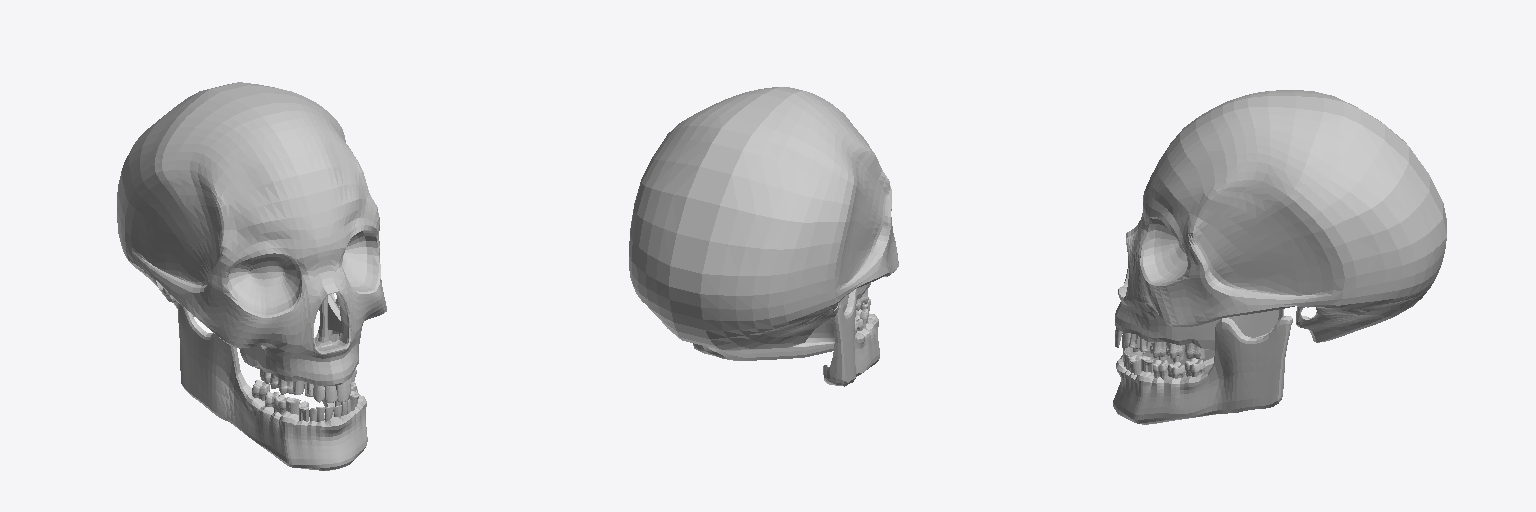
Rendered from jaw3.obj.
The picture shows the model from 3 angles: view 1: azimuth 30°, elevation 25°; view 2: azimuth 150°, elevation 25°; view 3: azimuth 270°, elevation 25°; orthographic projection.
Parts seen in each view (by area): view 1: Skull; view 2: Skull; view 3: Skull.
Boxes of the visible parts, <box> form: Skull: <box>117,82,386,470</box>; Skull: <box>629,87,898,386</box>; Skull: <box>1113,90,1446,424</box>.
Size of the model in its own units: 13.36 by 19.74 by 19.33.